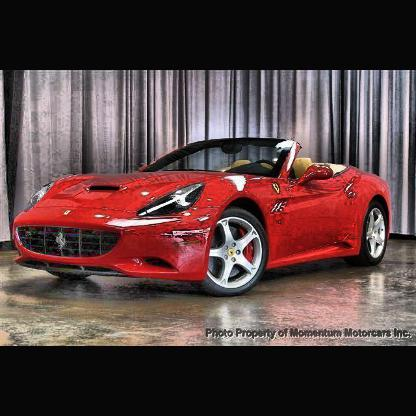Ferrari California Convertible 2012: (14, 137, 392, 300)
